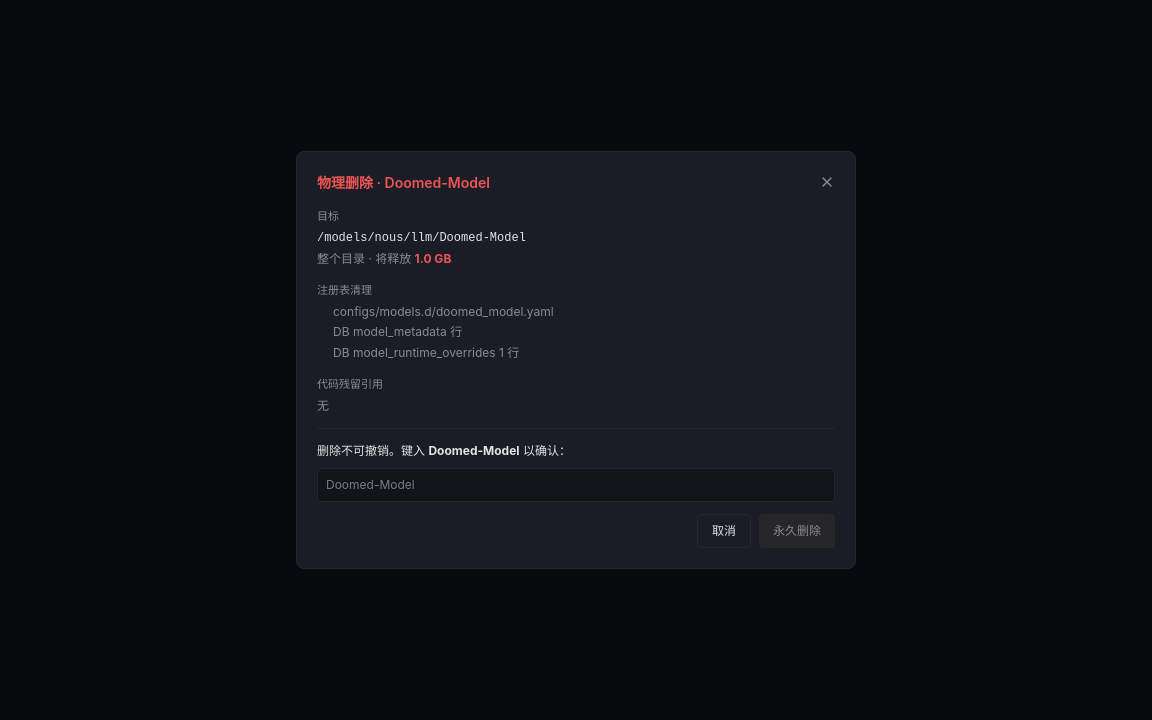
Scenario: DeleteModelDialog › keeps the delete button disabled until the typed name matches exactly
Expected: the button "永久删除" is disabled, left=759, top=514, right=835, bottom=548
In the field: x=576, y=485 left=317, top=468, right=835, bottom=502, type "Doomed-Mode"
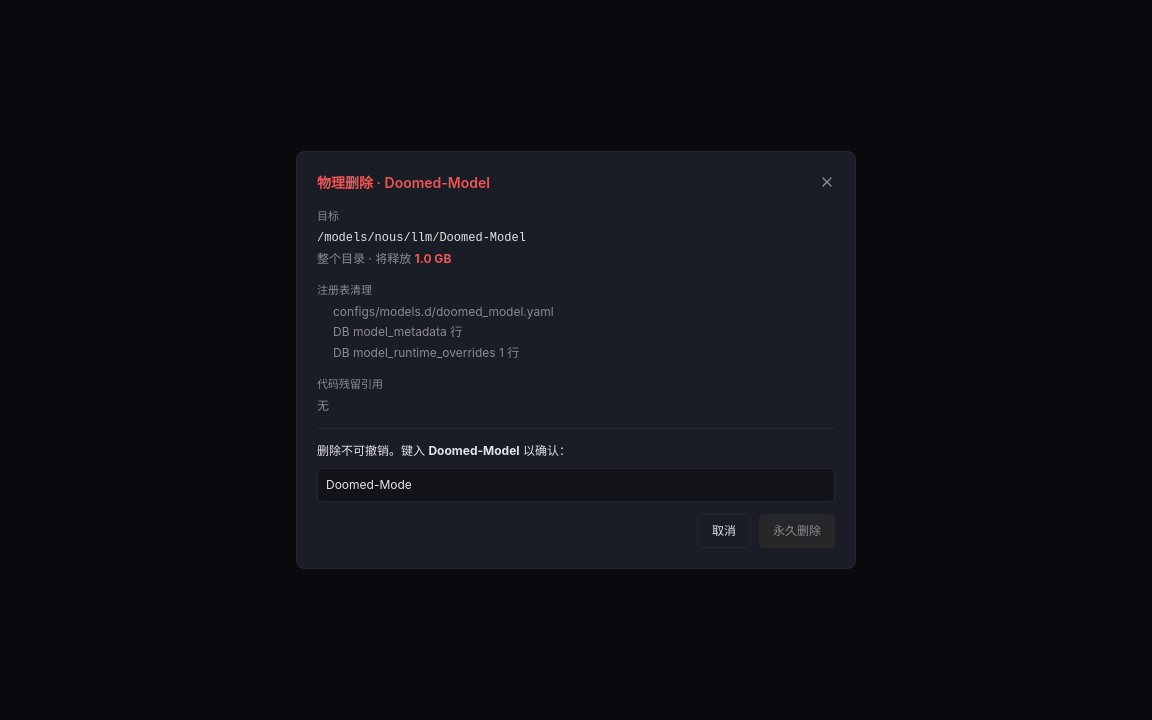
Expected: the button "永久删除" is disabled, left=759, top=514, right=835, bottom=548
Replace the text in the field with "Doomed-Model": x=576, y=485 left=317, top=468, right=835, bottom=502
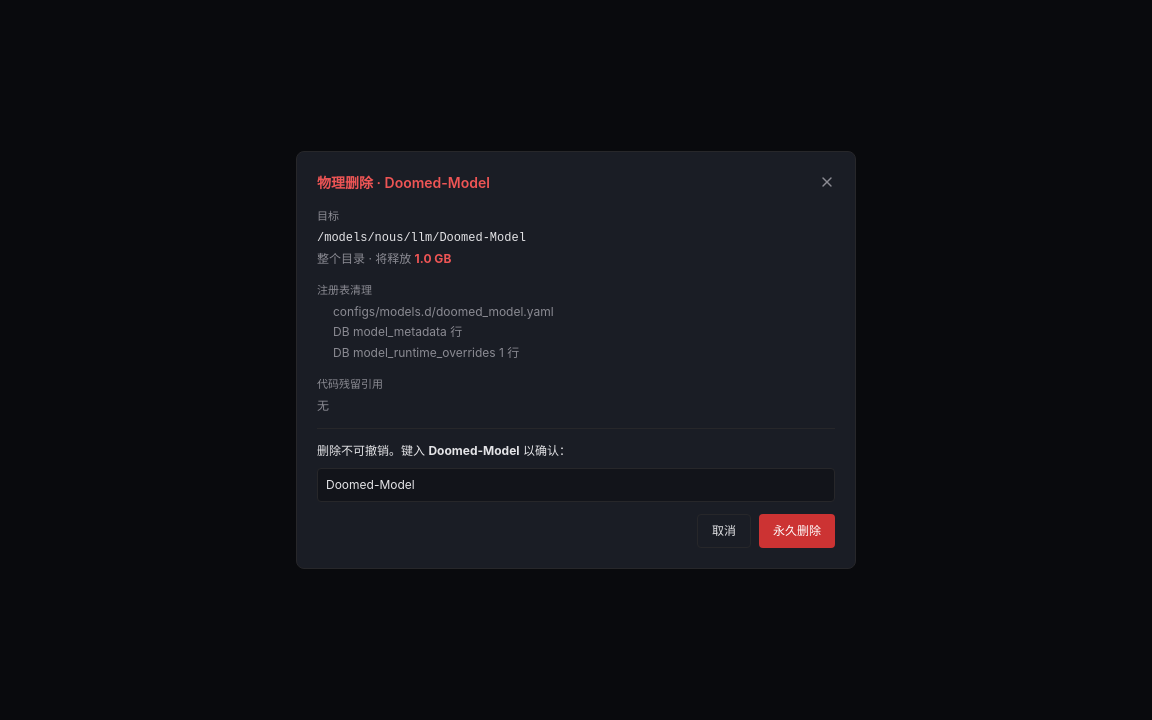
Expected: the button "永久删除" is enabled, left=759, top=514, right=835, bottom=548
